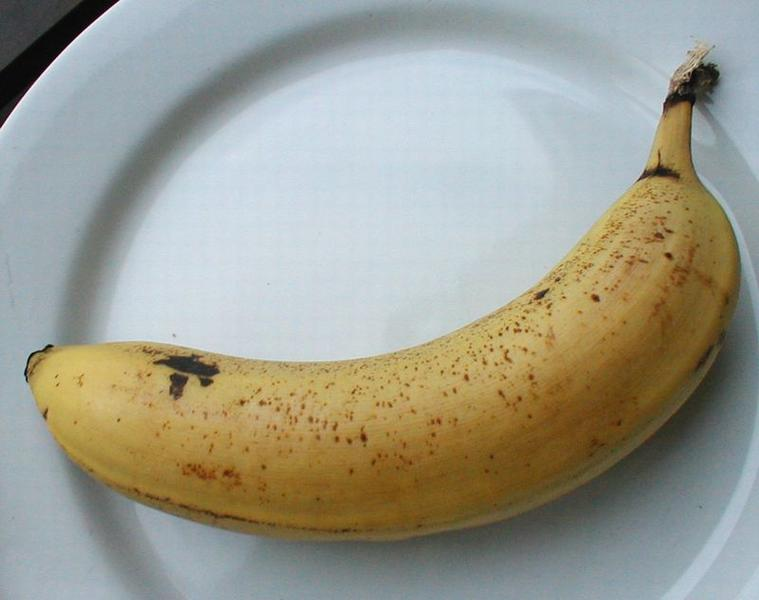Banana: (23, 44, 740, 540)
